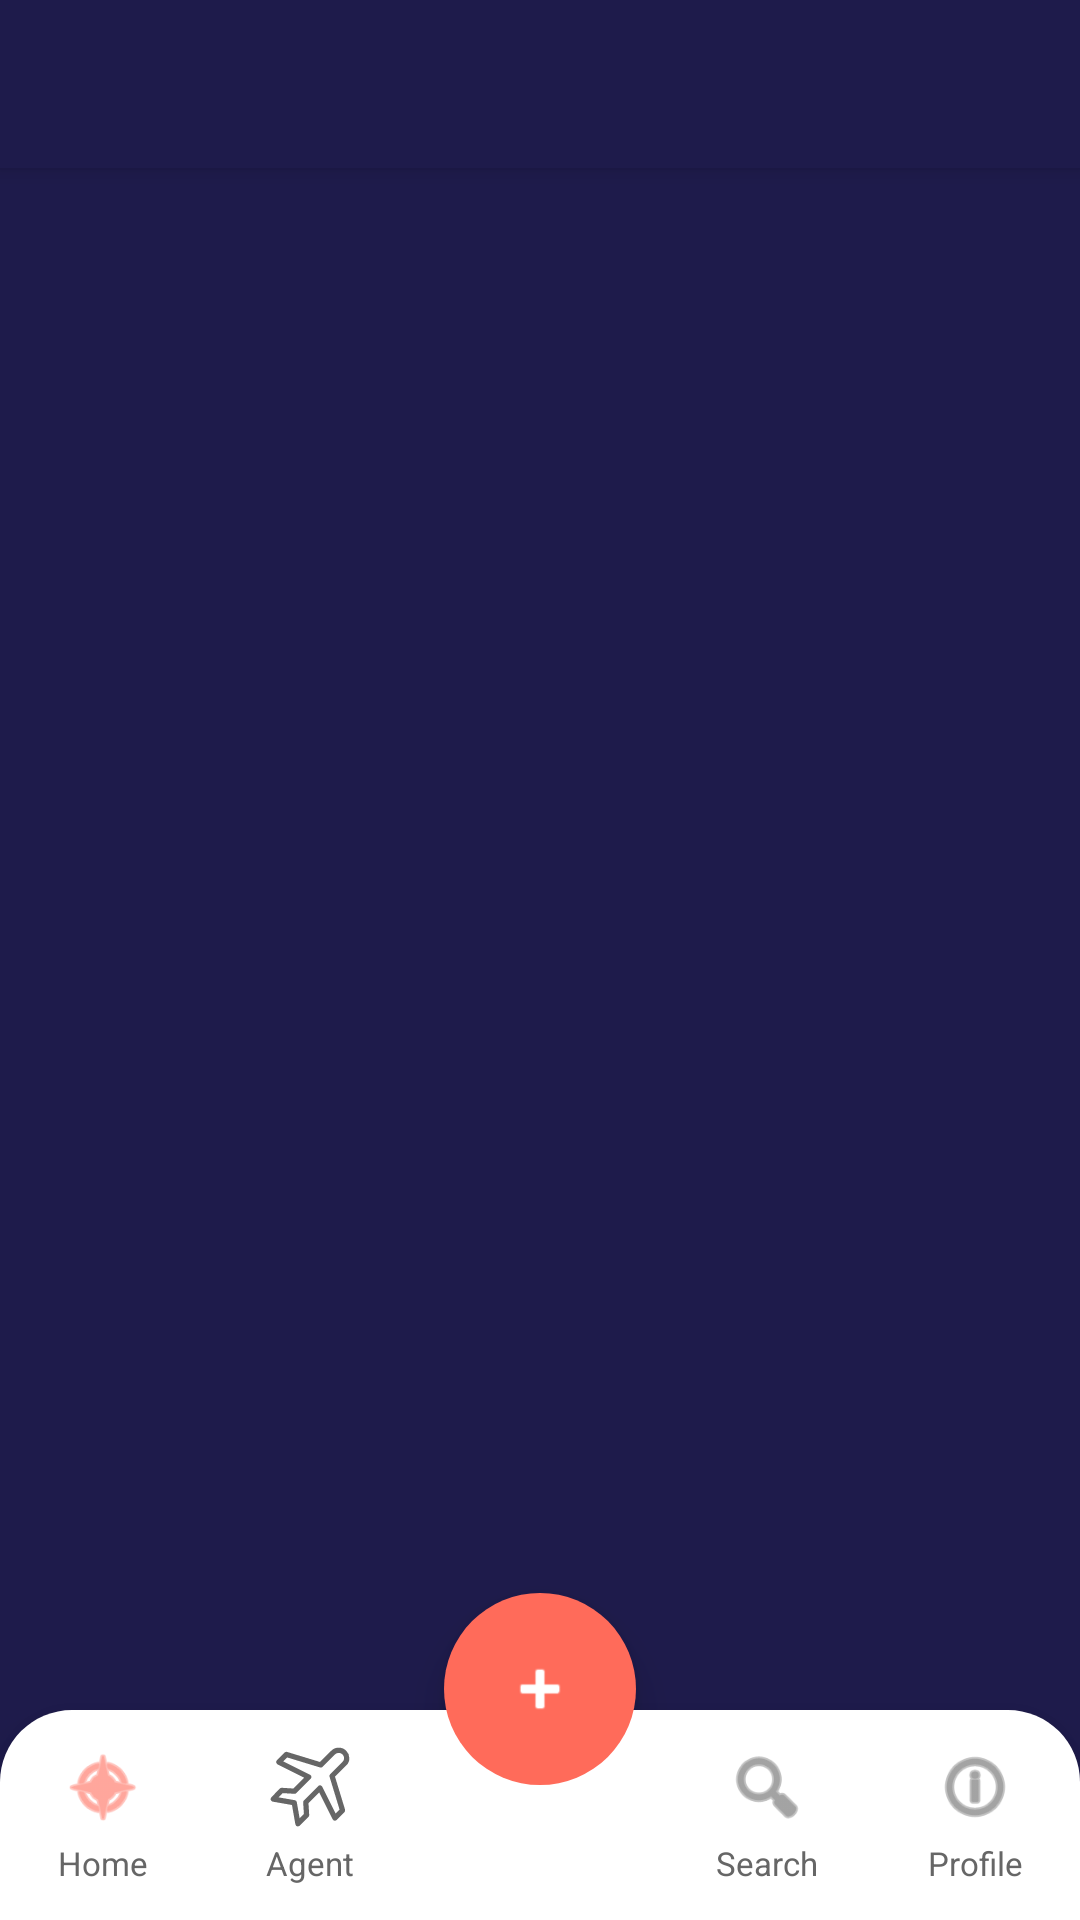

Icons on this 1080w x 1920h Android screen, each with the point to tap as point (x, y):
Add Place: point (540, 1689)
